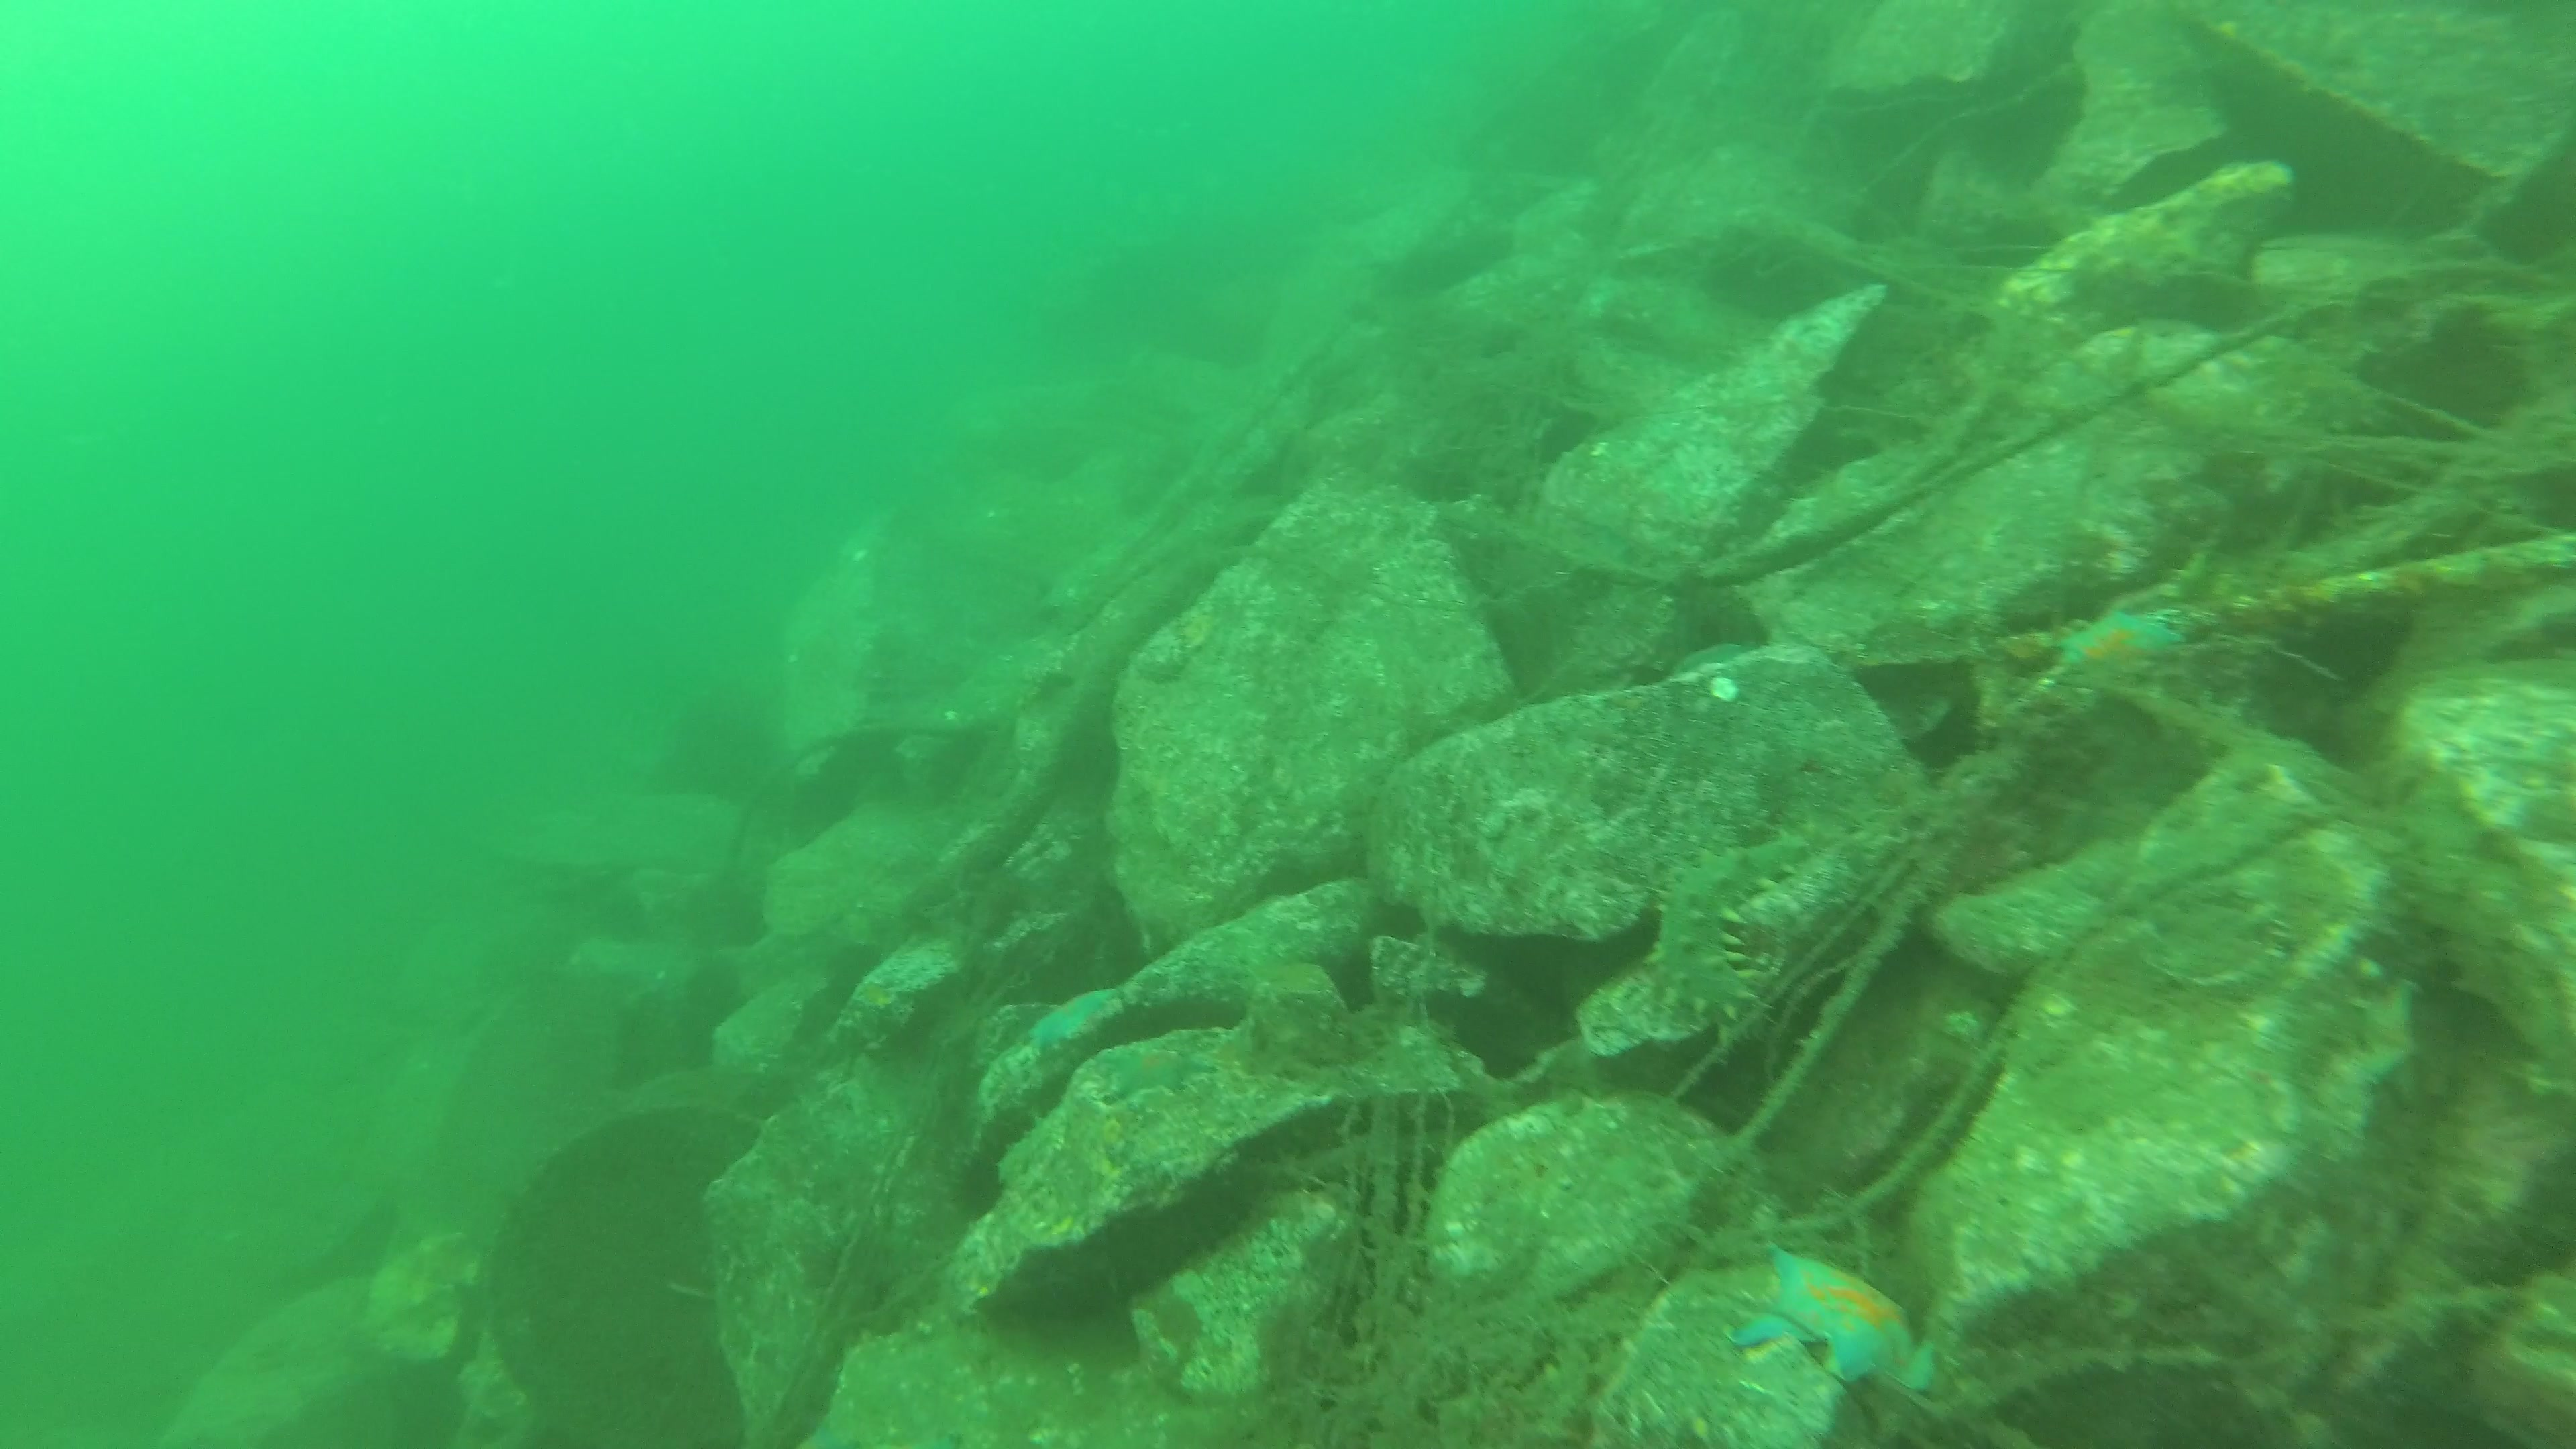holothurian: (1645, 828, 1838, 1044)
starfish: (1727, 1242, 1936, 1399), (2049, 610, 2190, 676), (1102, 1047, 1219, 1102)
